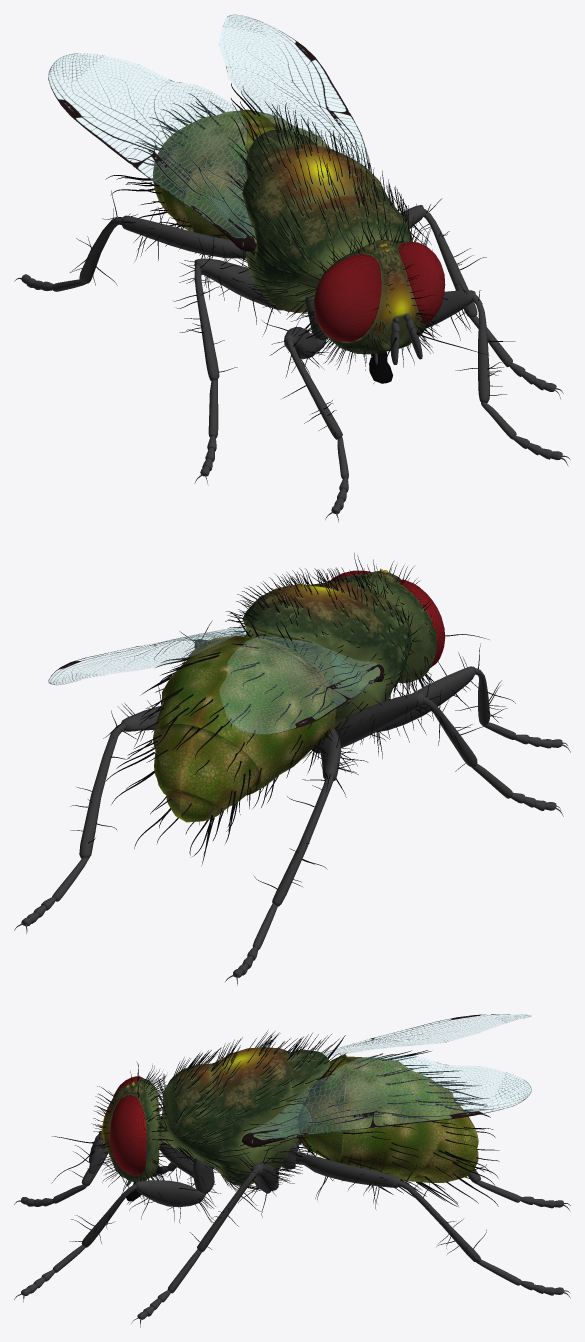
The model's file is fly (1).glb.
The picture shows the model from 3 angles, top to bottom: view 1: azimuth 30°, elevation 25°; view 2: azimuth 150°, elevation 25°; view 3: azimuth 270°, elevation 25°; orthographic projection. The views are drawn at different scales.
Parts seen in each view (by area): view 1: final; view 2: final; view 3: final.
Boxes of the visible parts, x1=… form: final: x1=14, y1=14, x2=570, y2=522; final: x1=14, y1=553, x2=570, y2=985; final: x1=14, y1=1014, x2=570, y2=1327.
Bounding box in the file's own units: 0.1945 × 0.1271 × 0.2993.
1 material, 1 textured.
